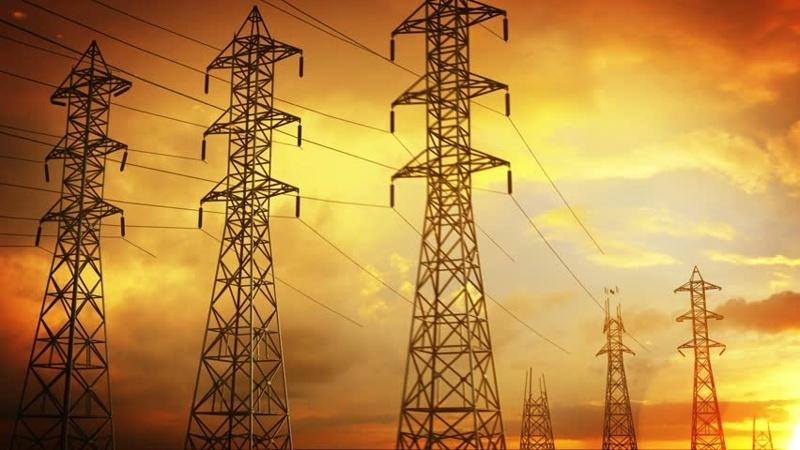power_tower: (377, 0, 533, 445), (193, 13, 321, 446), (35, 32, 118, 429), (665, 269, 730, 446), (586, 293, 647, 446)
